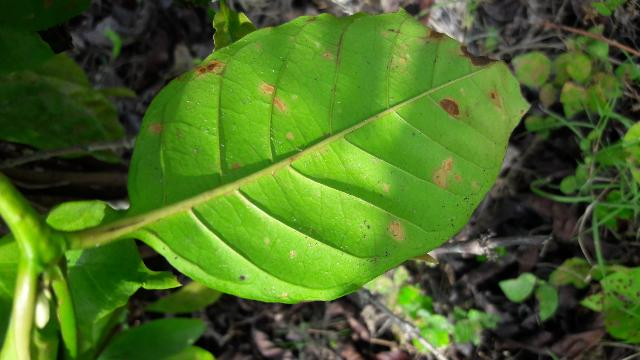rust_level_2: (127, 10, 525, 302)
